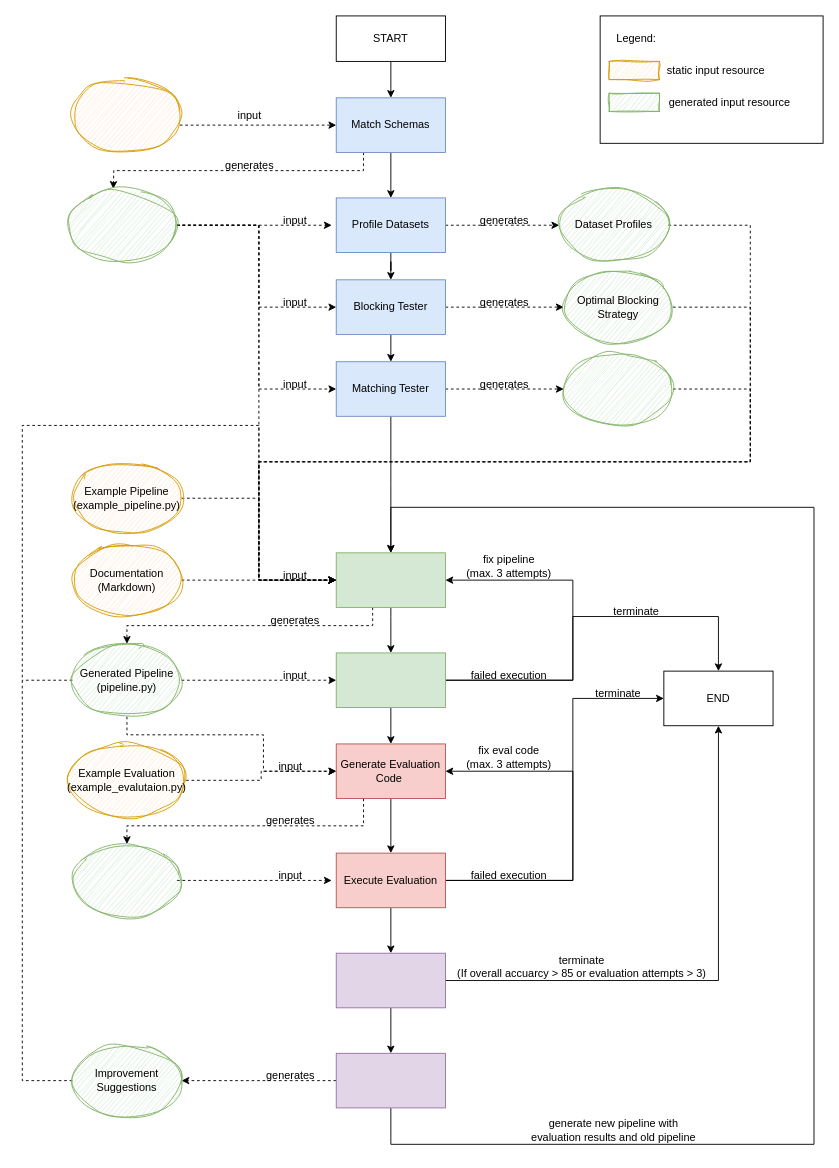
Image size: 839x1168. Some labels were removed from this diagram. Each missing label, with the centre of its shape:
Best Matching Strategy: point 618,388
Evaluation Code (evaluation.py): point 126,880
Evaluation Decision: point 390,980
Execute Pipeline: point 390,680
Generate Pipeline: point 390,579
Input Datasets: point 126,115
Reasoning Node: point 390,1080
Schema-aligned Datasets: point 122,225
